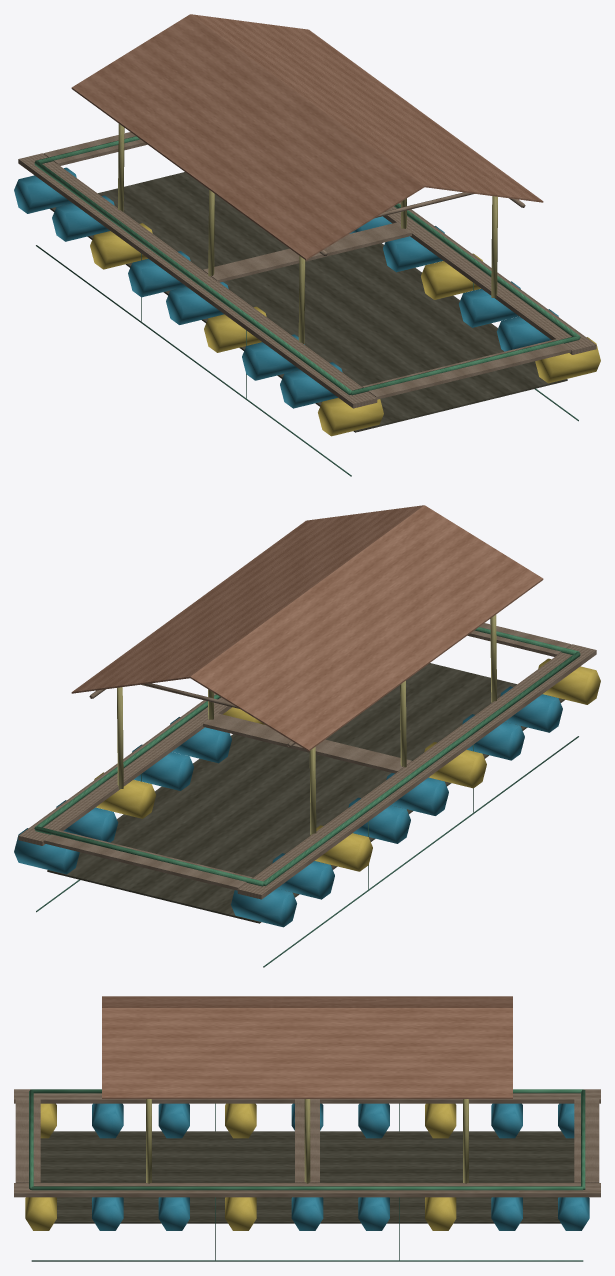
File: bung-raft-3-rust-mid.glb
3 views of the same model, one above another, from view 1: azimuth 30°, elevation 25°; view 2: azimuth 150°, elevation 25°; view 3: azimuth 270°, elevation 25° (orthographic). The views are drawn at different scales.
Visible parts, largest first — view 1: bung-raft-3-rust-mid; view 2: bung-raft-3-rust-mid; view 3: bung-raft-3-rust-mid.
Boxes of the visible parts, x1,y1,x2,y2 form: bung-raft-3-rust-mid: [14, 14, 600, 476]; bung-raft-3-rust-mid: [14, 505, 600, 967]; bung-raft-3-rust-mid: [14, 996, 600, 1261].
Size of the model in its own units: 4.94 by 4.17 by 10.8.
Materials: 1 (1 with a texture image).
